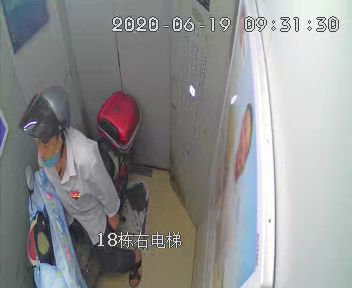Electric-bicycle: (26, 87, 134, 288)
